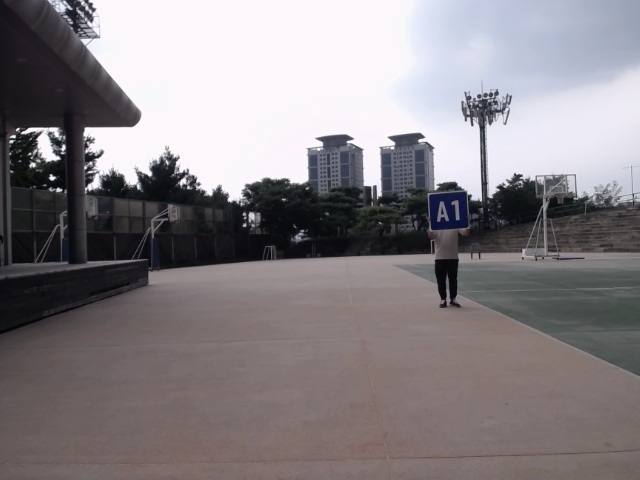delivery_a1: (428, 191, 468, 231)
